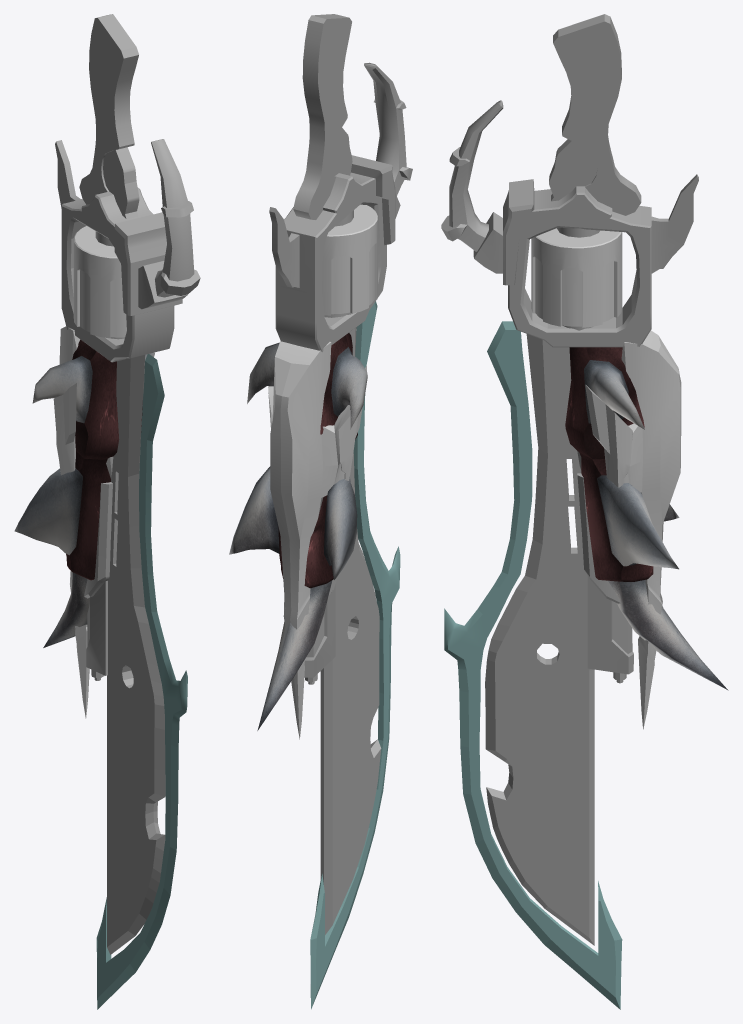
File: weapon.fbx
3 views of the same model, side by side, from view 1: azimuth 30°, elevation 25°; view 2: azimuth 150°, elevation 25°; view 3: azimuth 270°, elevation 25° (orthographic).
Visible parts, largest first — view 1: weapon, weaponCiladea, weaponGotena; view 2: weapon, weaponGotena, weaponCiladea; view 3: weapon, weaponCiladea, weaponGotena.
Boxes of the visible parts, x1,y1,x2,y2 form: weapon: (55, 14, 200, 1009); weaponCiladea: (14, 339, 154, 647); weaponGotena: (53, 326, 144, 718); weapon: (269, 14, 412, 1009); weaponGotena: (268, 341, 366, 739); weaponCiladea: (229, 333, 367, 730); weapon: (441, 14, 698, 1009); weaponCiladea: (565, 347, 728, 690); weaponGotena: (585, 330, 681, 729).
Size of the model in its own units: 0.6162 by 5.18 by 1.36.
